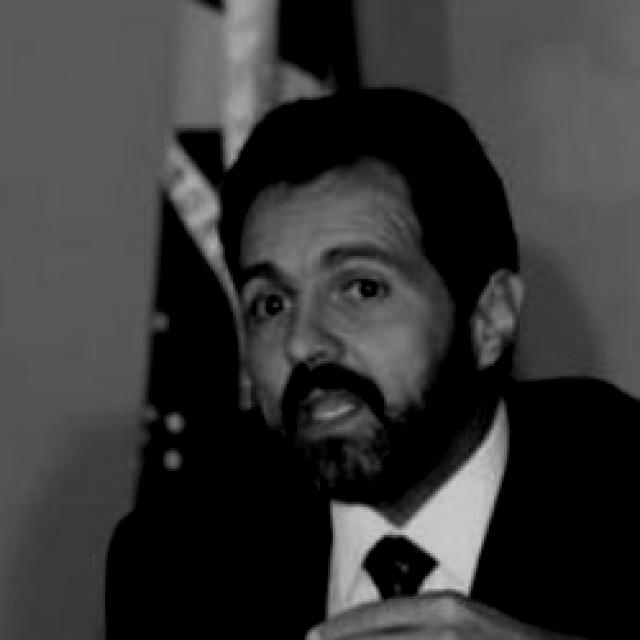real: (220, 105, 522, 498), (241, 265, 426, 327)
